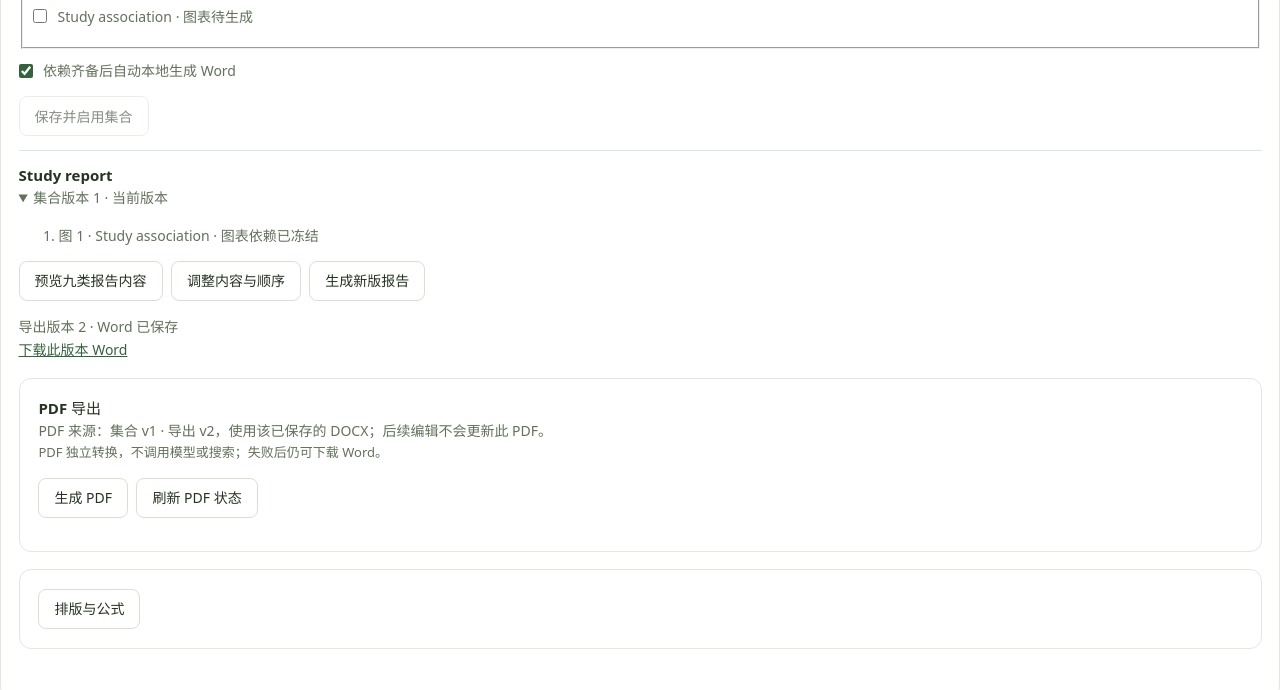
Test: offers PDF for the exact saved collection DOCX and shows both frozen revisions
(page scrolled)
Expected: the link "下载此版本 Word" is shown, [18,340,128,359]
Click the button "生成 PDF" at (83, 498), box [38,478,128,518]
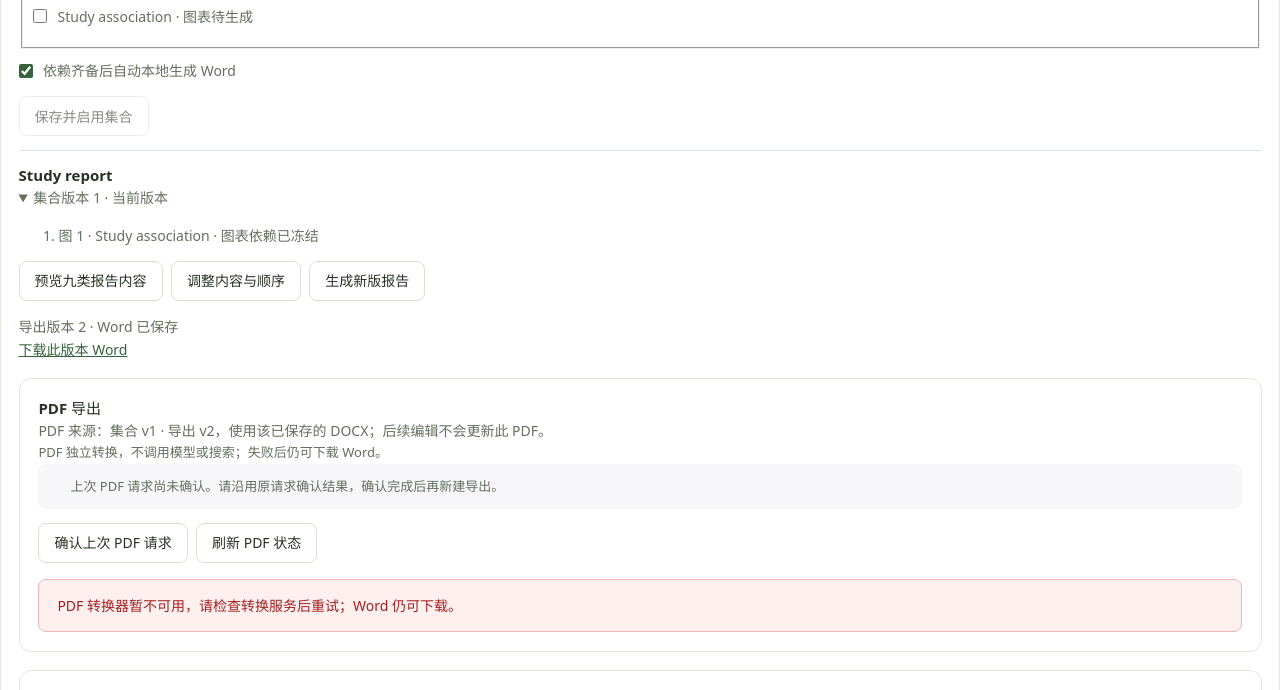
Expected: the link "下载此版本 Word" is shown, [18,340,128,359]
Expected: the message "PDF 转换器暂不可用，请检查转换服务后重试；Word 仍可下载。" is shown, [38,579,1242,632]
